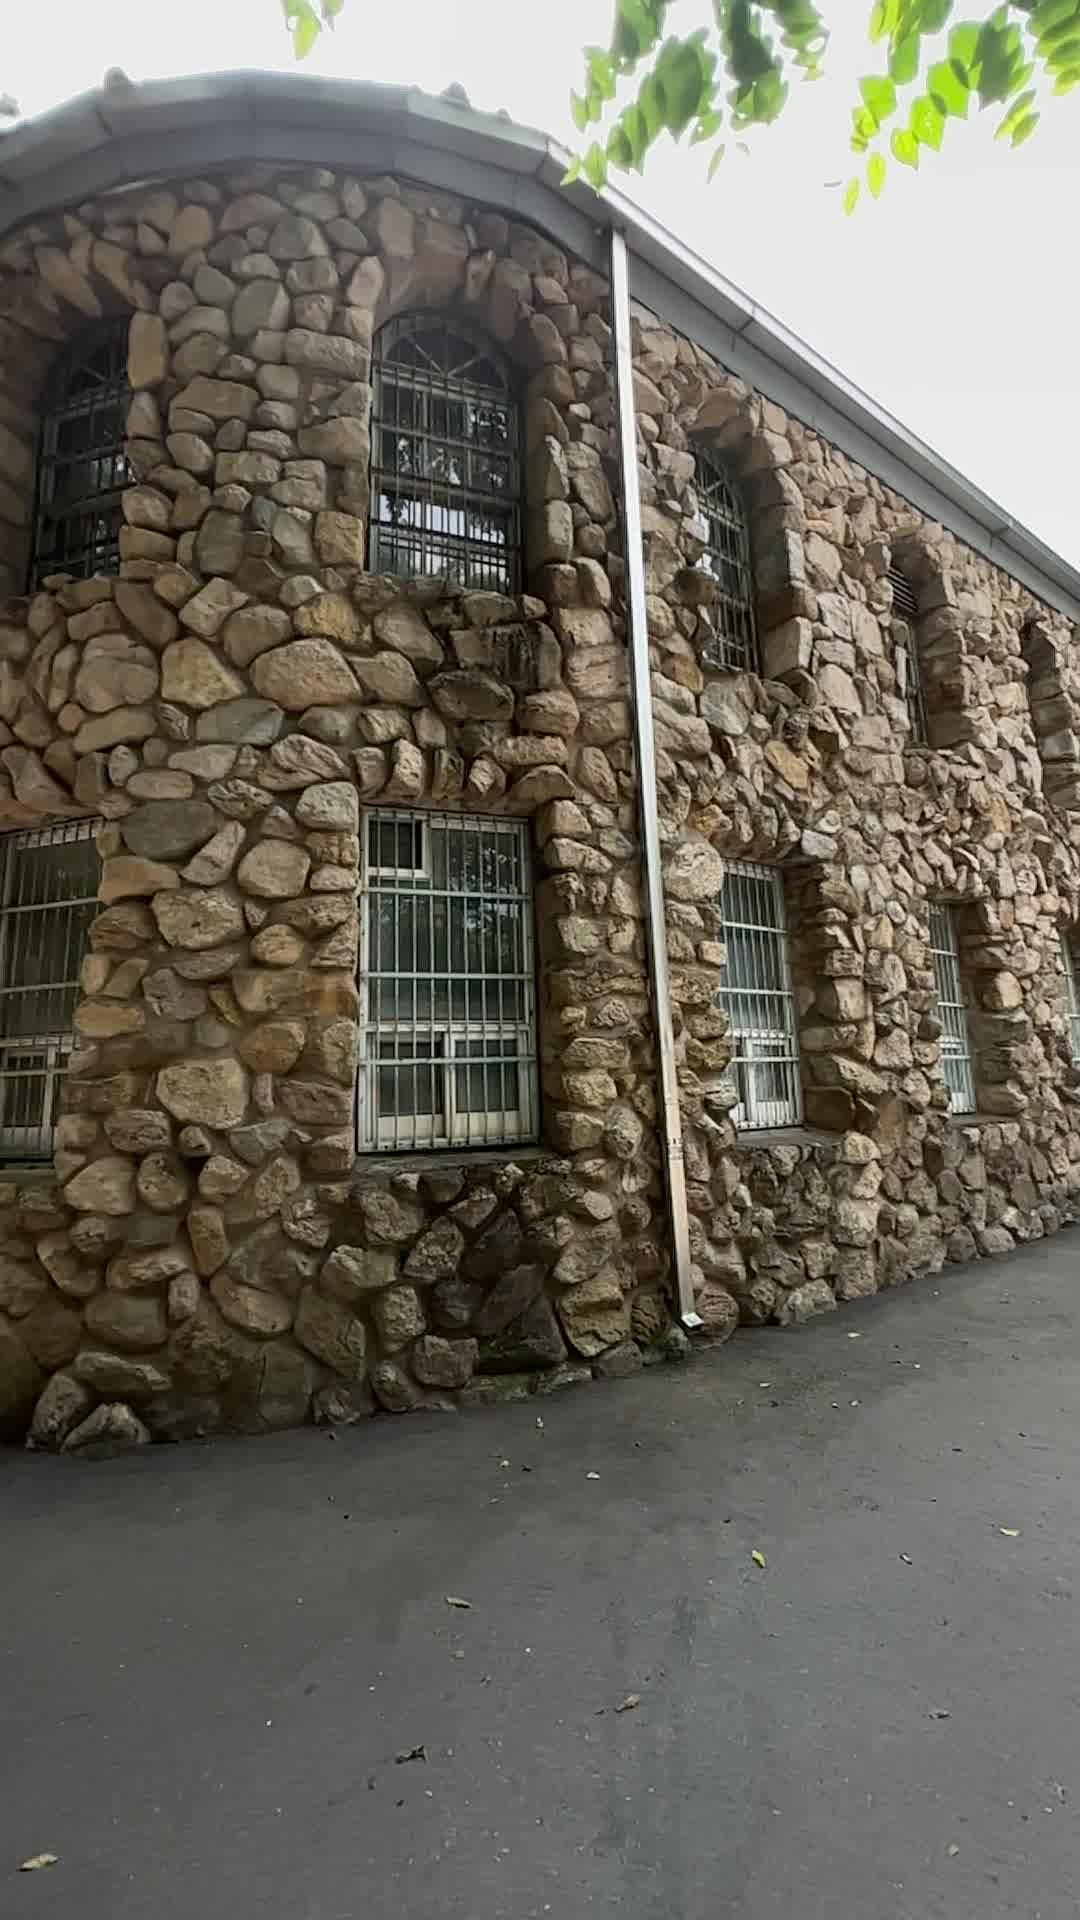building: (0, 112, 1080, 1360)
